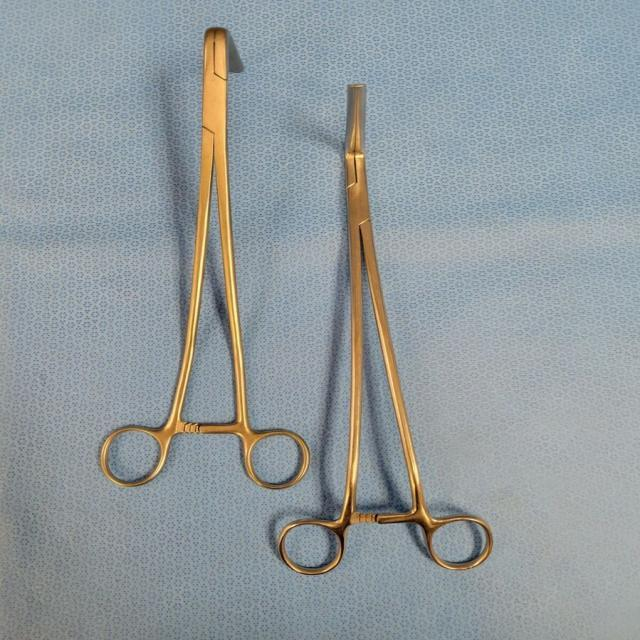Right Angle Colon Clamp: (274, 82, 494, 574), (89, 24, 317, 491)
